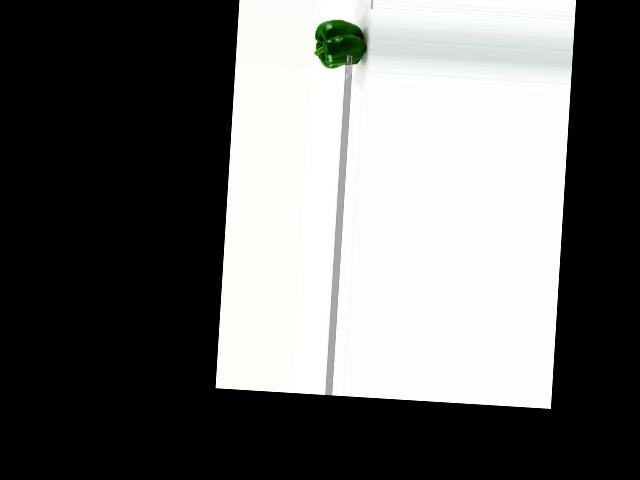bell_pepper: (310, 16, 369, 69)
